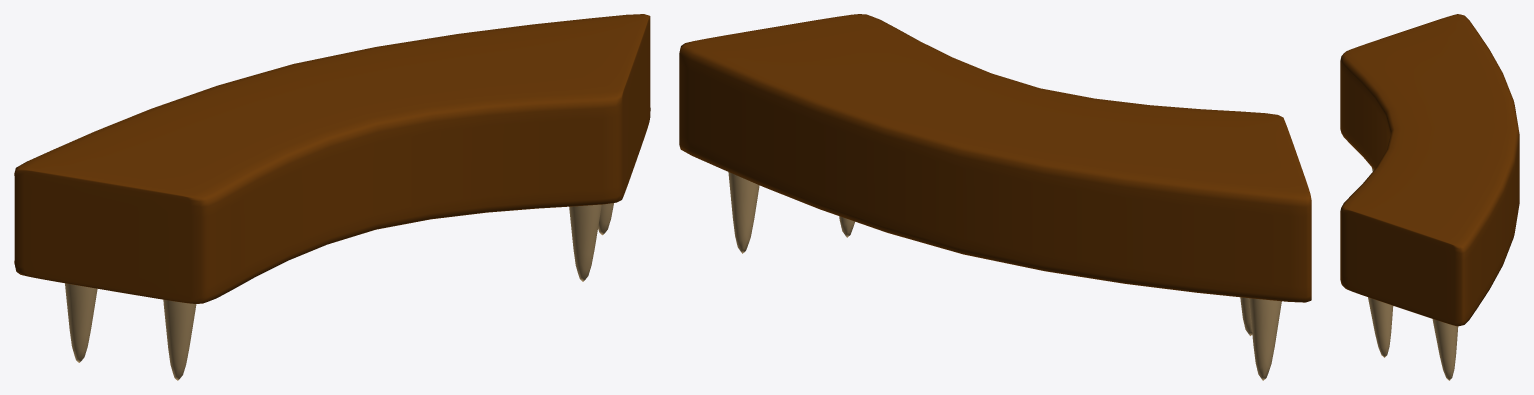
File: coach.fbx
3 views of the same model, side by side, from view 1: azimuth 30°, elevation 25°; view 2: azimuth 150°, elevation 25°; view 3: azimuth 270°, elevation 25° (orthographic). The views are drawn at different scales.
Parts seen in each view (by area): view 1: coach, leg2, leg3, leg1; view 2: coach, leg3, leg; view 3: coach, leg, leg1.
Part boxes in pixels (<box>): coach: <box>14,14,650,303</box>; leg2: <box>163,299,196,380</box>; leg3: <box>65,283,97,362</box>; leg1: <box>569,204,601,281</box>; coach: <box>679,14,1311,302</box>; leg3: <box>1249,298,1281,380</box>; leg: <box>728,172,759,253</box>; coach: <box>1340,14,1519,326</box>; leg: <box>1432,319,1458,380</box>; leg1: <box>1368,297,1393,357</box>.
Size of the model in its own units: 3.58 by 1.11 by 1.15.
